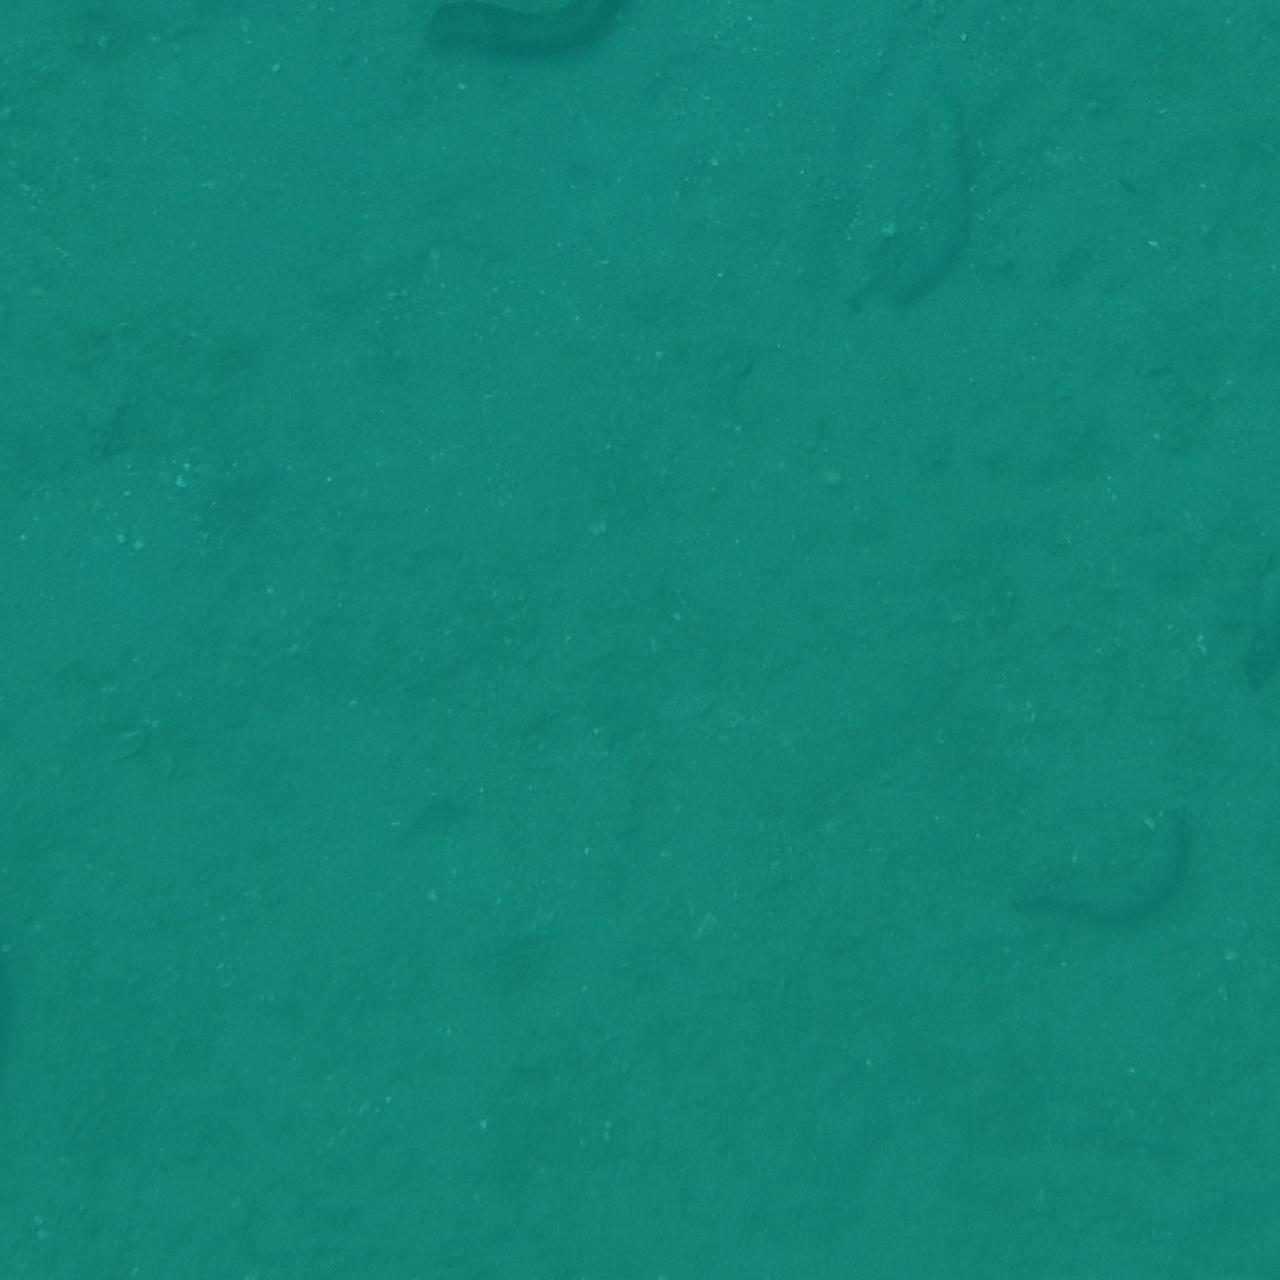Holothuria tubulosa: (0, 274, 129, 566), (0, 499, 168, 719), (863, 49, 995, 319), (998, 809, 1220, 949), (0, 273, 91, 549), (1103, 1076, 1280, 1204), (0, 796, 61, 1126), (424, 0, 688, 74), (0, 0, 195, 89), (1194, 145, 1280, 343), (1148, 0, 1280, 127), (0, 911, 142, 1017), (1136, 1187, 1280, 1280), (1207, 524, 1280, 706), (1145, 1069, 1280, 1160), (1217, 234, 1280, 429), (1185, 1151, 1280, 1280), (0, 0, 87, 124), (0, 1194, 123, 1280), (0, 1178, 103, 1280), (1210, 261, 1280, 409), (318, 1182, 416, 1280), (1088, 1232, 1280, 1280), (1191, 1182, 1280, 1280), (0, 0, 102, 66)
